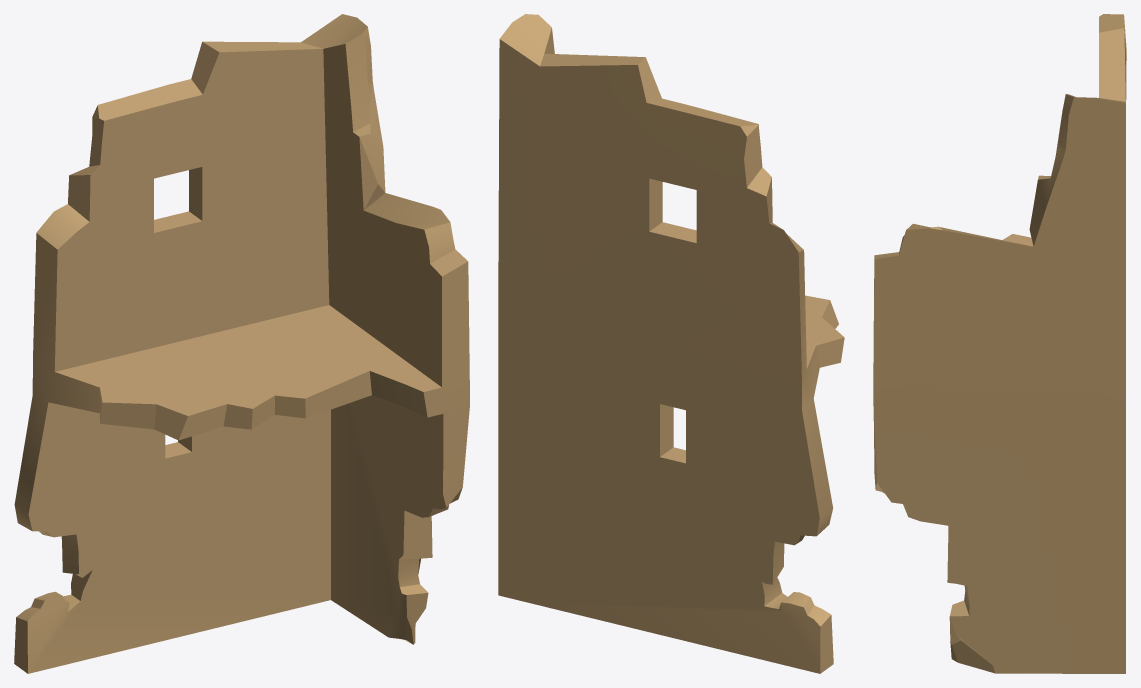
The model's file is Ruins_CornerSegment_01.fbx.
3 renders of one model, left to right at view 1: azimuth 30°, elevation 25°; view 2: azimuth 150°, elevation 25°; view 3: azimuth 270°, elevation 25°, orthographic. The views are drawn at different scales.
Parts seen in each view (by area): view 1: CornerSegment_1_Broken; view 2: CornerSegment_1_Broken; view 3: CornerSegment_1_Broken.
Boxes of the visible parts, box(x1,y1,x2,y2) form: CornerSegment_1_Broken: box(14, 14, 469, 673); CornerSegment_1_Broken: box(498, 14, 844, 673); CornerSegment_1_Broken: box(873, 14, 1126, 673).
Bounding box in the file's own units: 412 × 690 × 274.
